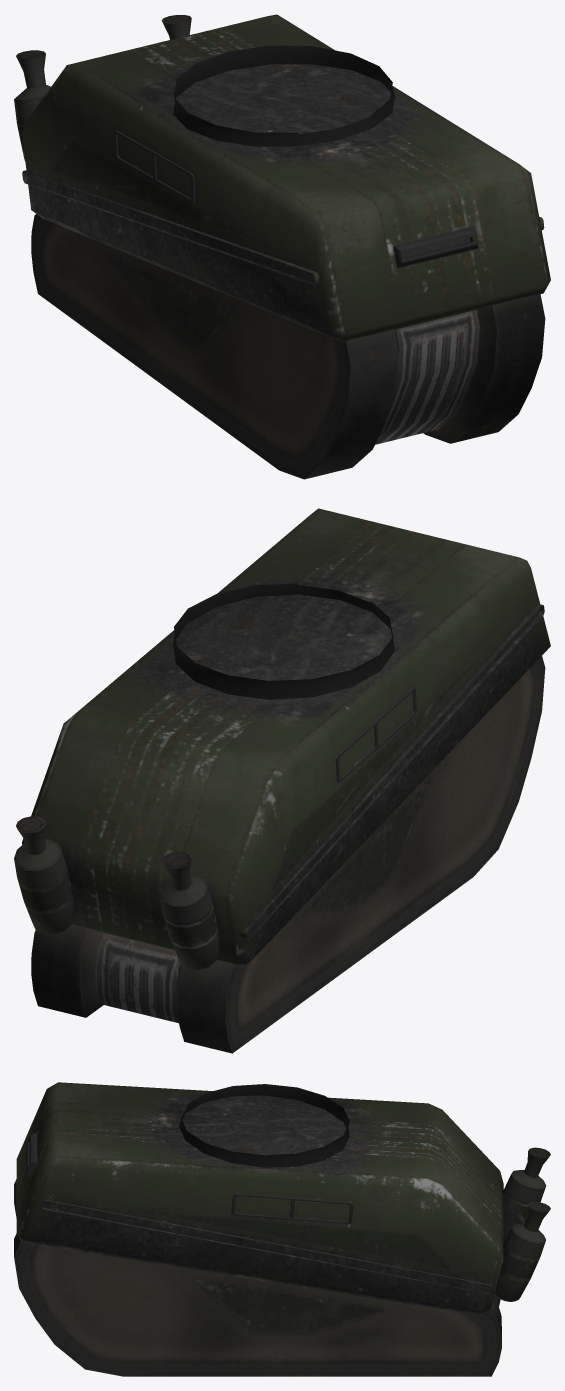
Rendered from body.obj.
3 renders of one model, top to bottom at view 1: azimuth 30°, elevation 25°; view 2: azimuth 150°, elevation 25°; view 3: azimuth 270°, elevation 25°, orthographic. The views are drawn at different scales.
Visible parts, largest first — view 1: Tank_Tank; view 2: Tank_Tank; view 3: Tank_Tank.
Part boxes in pixels (x1,y1,x2,y2): Tank_Tank: [14, 14, 550, 479]; Tank_Tank: [14, 508, 550, 1053]; Tank_Tank: [14, 1082, 550, 1376].
Size of the model in its own units: 104 by 126 by 276.
1 material, 1 textured.
